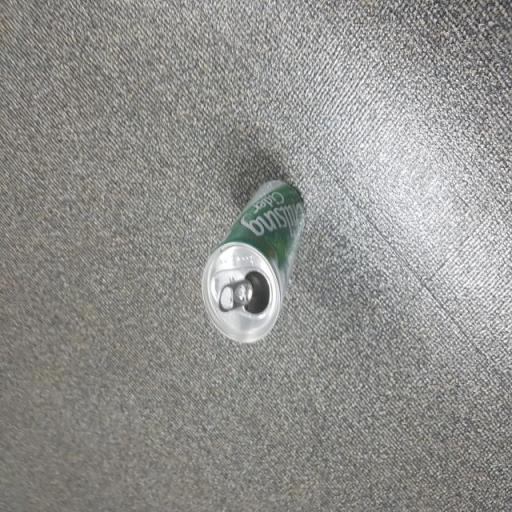metal: (192, 155, 325, 359)
